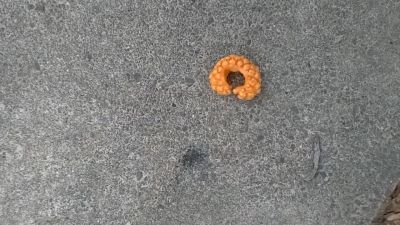eggs: (206, 54, 265, 102)
